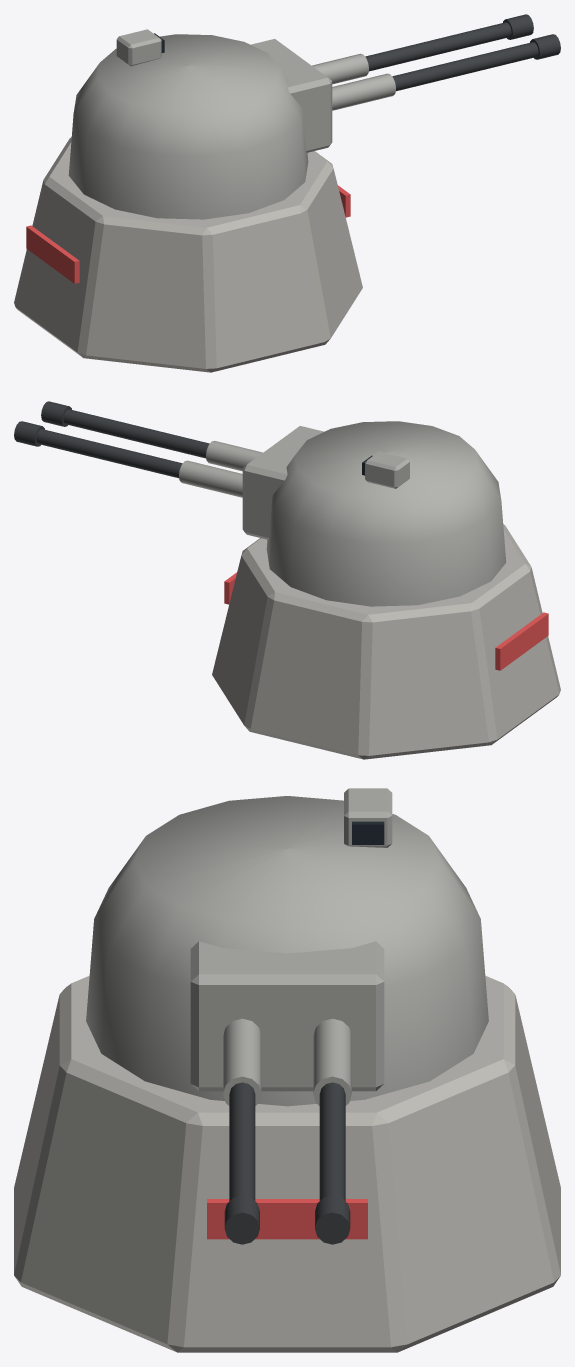
Rendered from turret.glb.
The picture shows the model from 3 angles, top to bottom: view 1: azimuth 30°, elevation 25°; view 2: azimuth 150°, elevation 25°; view 3: azimuth 270°, elevation 25°; orthographic projection. The views are drawn at different scales.
Visible parts, largest first — view 1: Base, Turret, Gun; view 2: Base, Turret, Gun; view 3: Base, Turret, Gun.
Part boxes in pixels (x1=…): Base: x1=14, y1=137, x2=362, y2=372; Turret: x1=68, y1=29, x2=332, y2=219; Gun: x1=312, y1=14, x2=560, y2=110; Base: x1=212, y1=524, x2=560, y2=759; Turret: x1=242, y1=421, x2=506, y2=606; Gun: x1=14, y1=401, x2=262, y2=497; Base: x1=14, y1=975, x2=560, y2=1352; Turret: x1=86, y1=788, x2=488, y2=1106; Gun: x1=223, y1=1018, x2=351, y2=1244.
Size of the model in its own units: 5.92 by 2.88 by 3.39.
